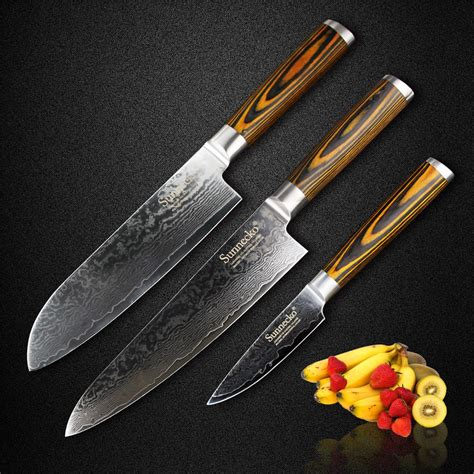knife: (60, 73, 417, 437), (27, 15, 359, 373), (207, 153, 458, 406)
